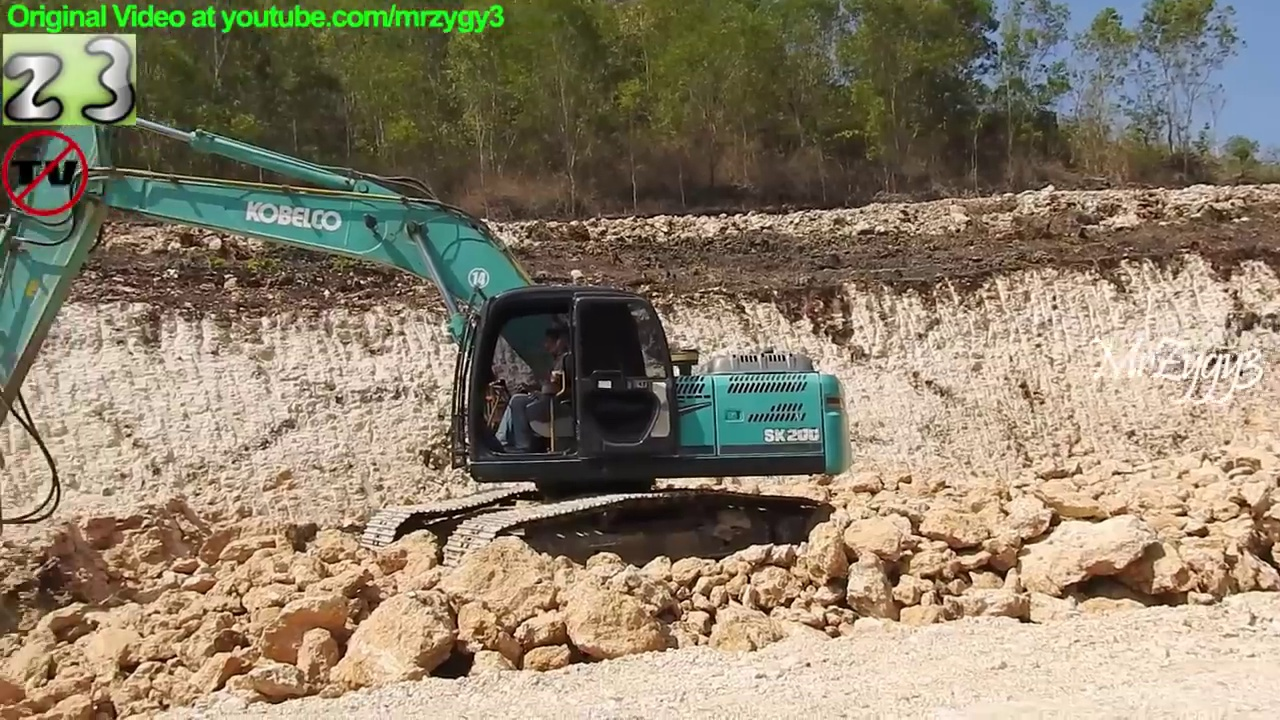excavator: (1, 76, 864, 593)
